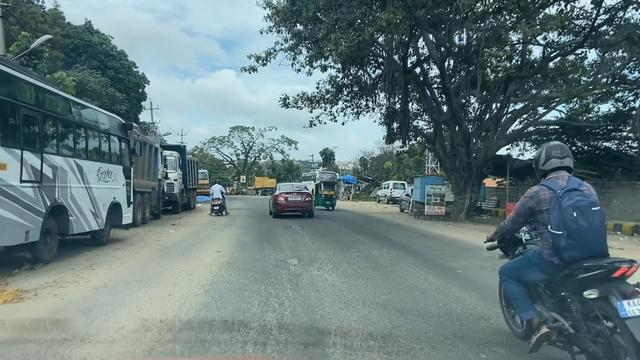HMV: (0, 52, 138, 261), (367, 174, 410, 204), (245, 173, 276, 198)
LMV: (481, 139, 640, 360), (263, 177, 328, 237), (198, 167, 228, 222), (313, 174, 340, 213)
